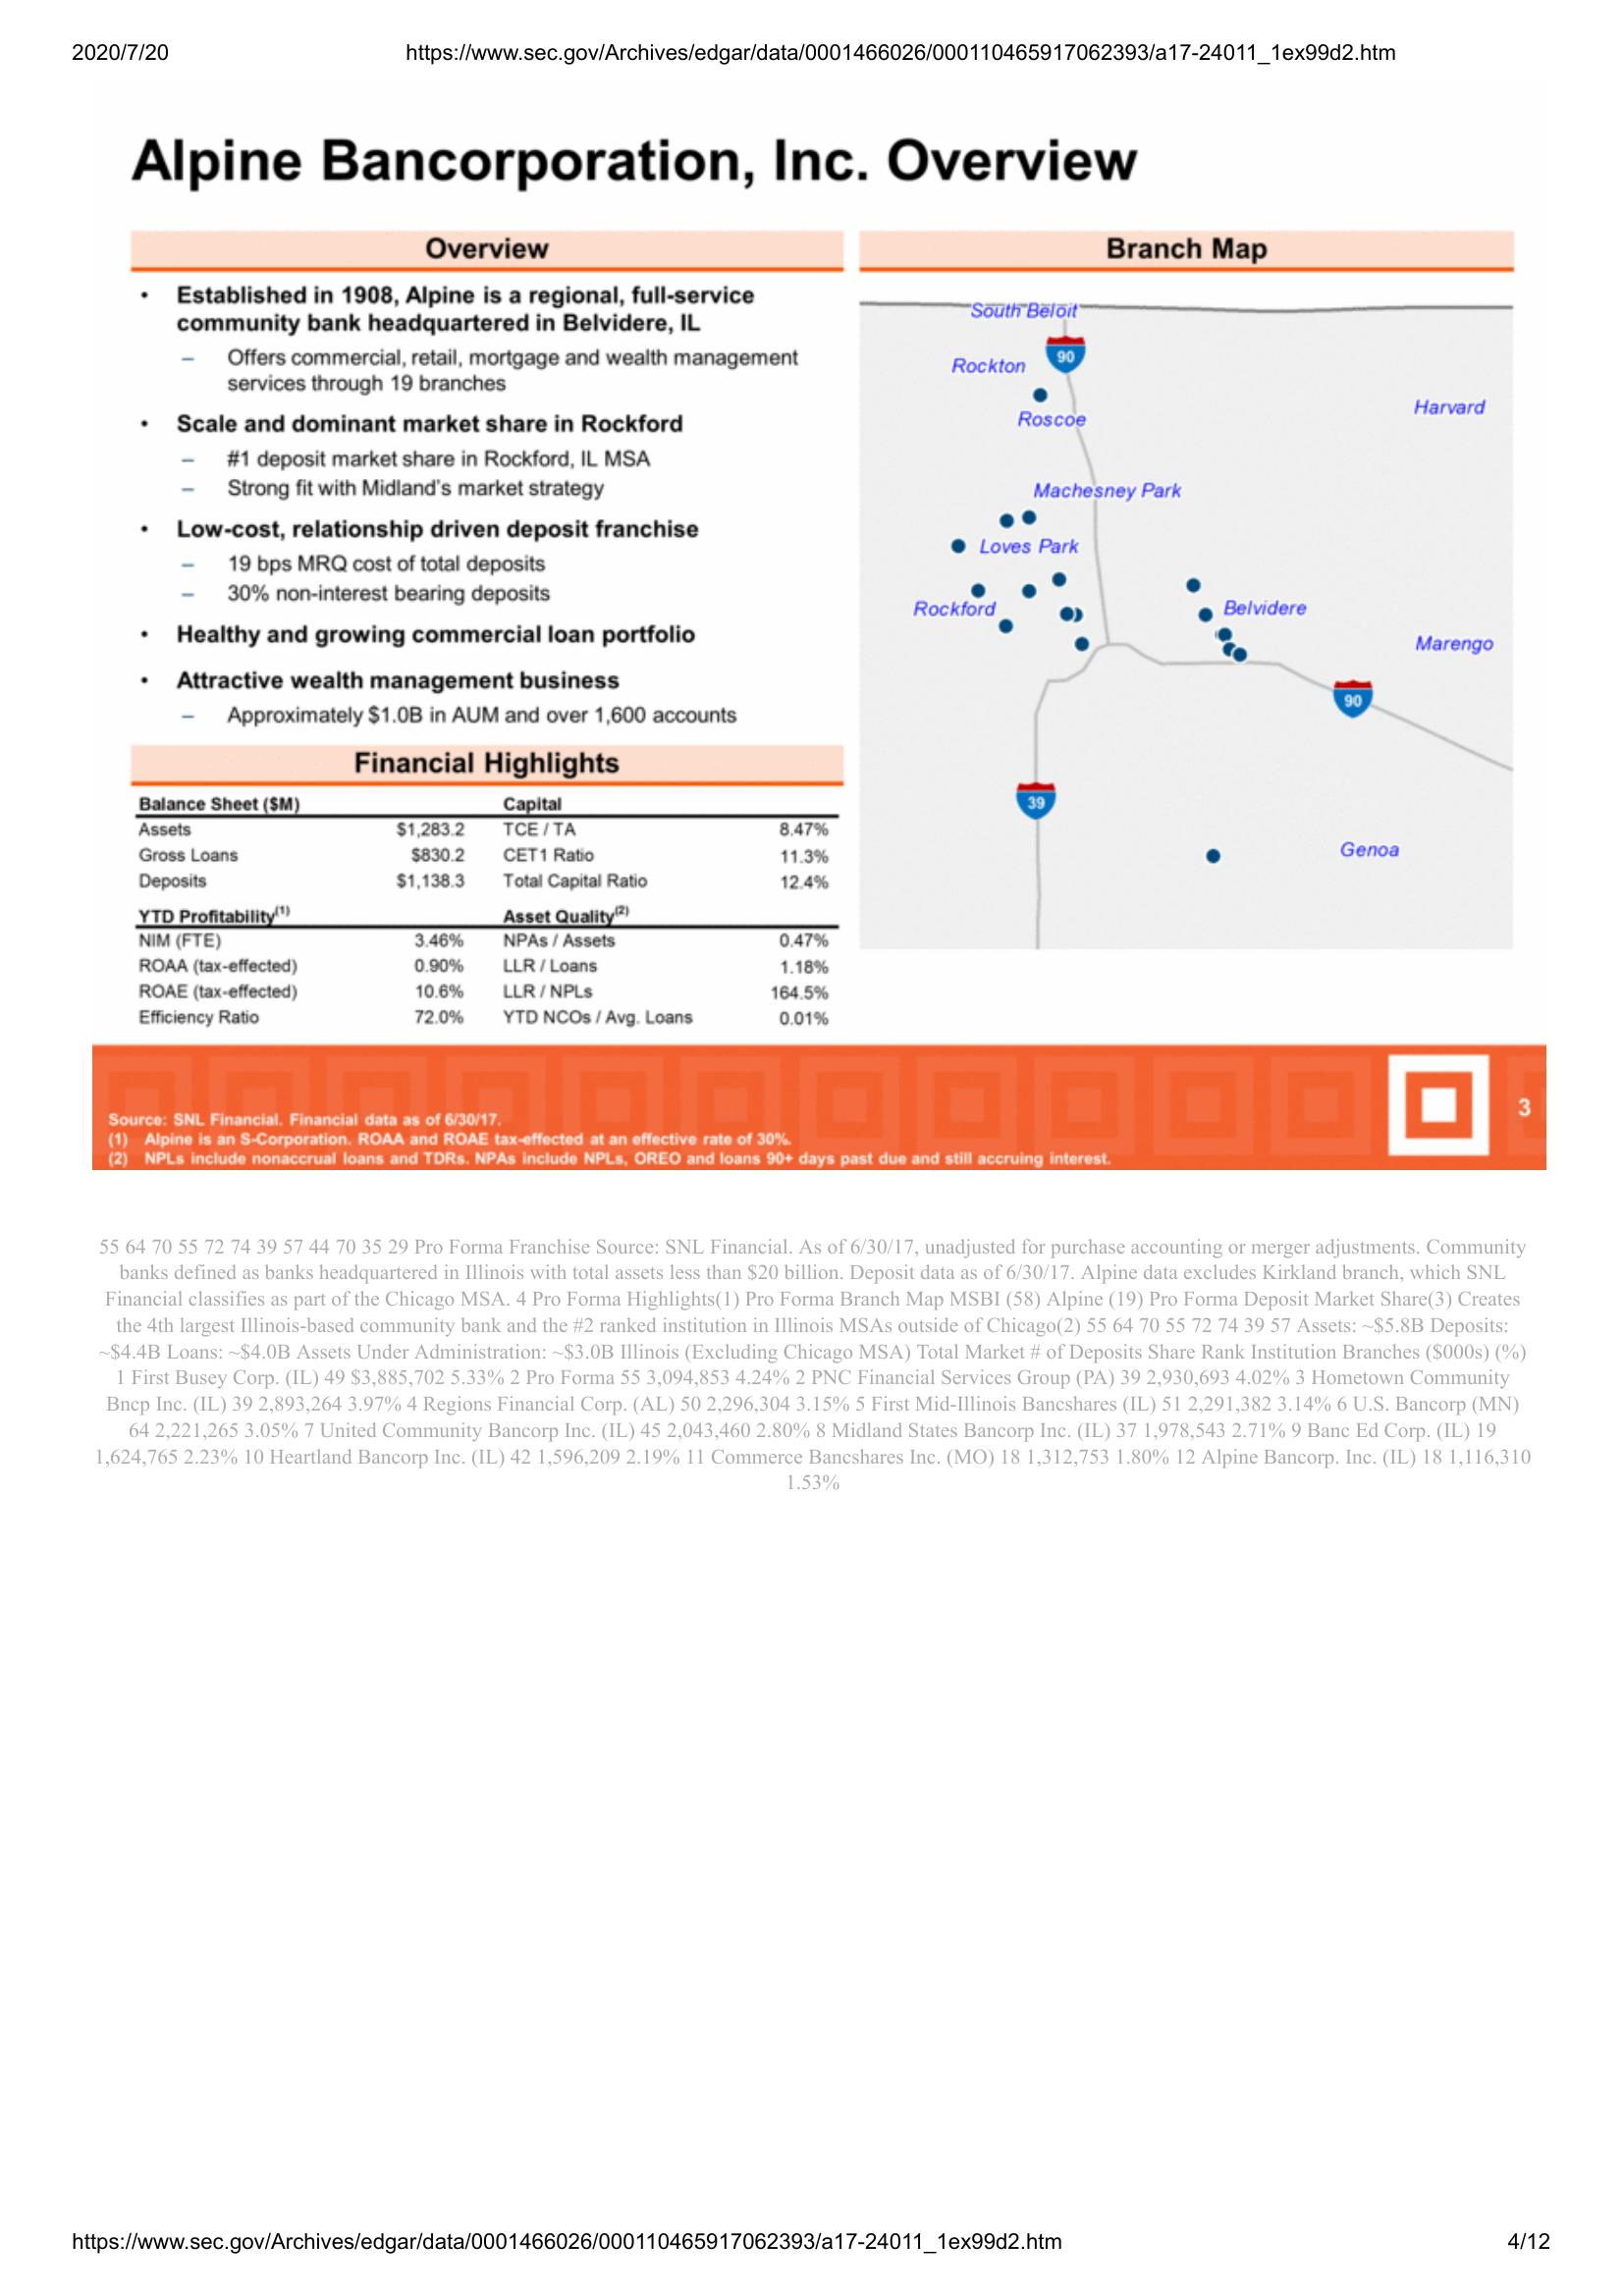table: (126, 741, 850, 1030)
